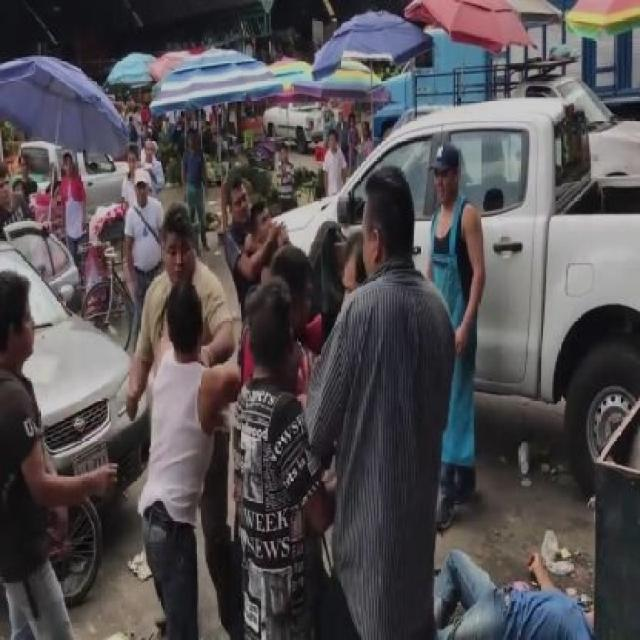fight: (125, 206, 242, 640)
non-fight: (301, 160, 459, 640), (420, 135, 488, 535)
